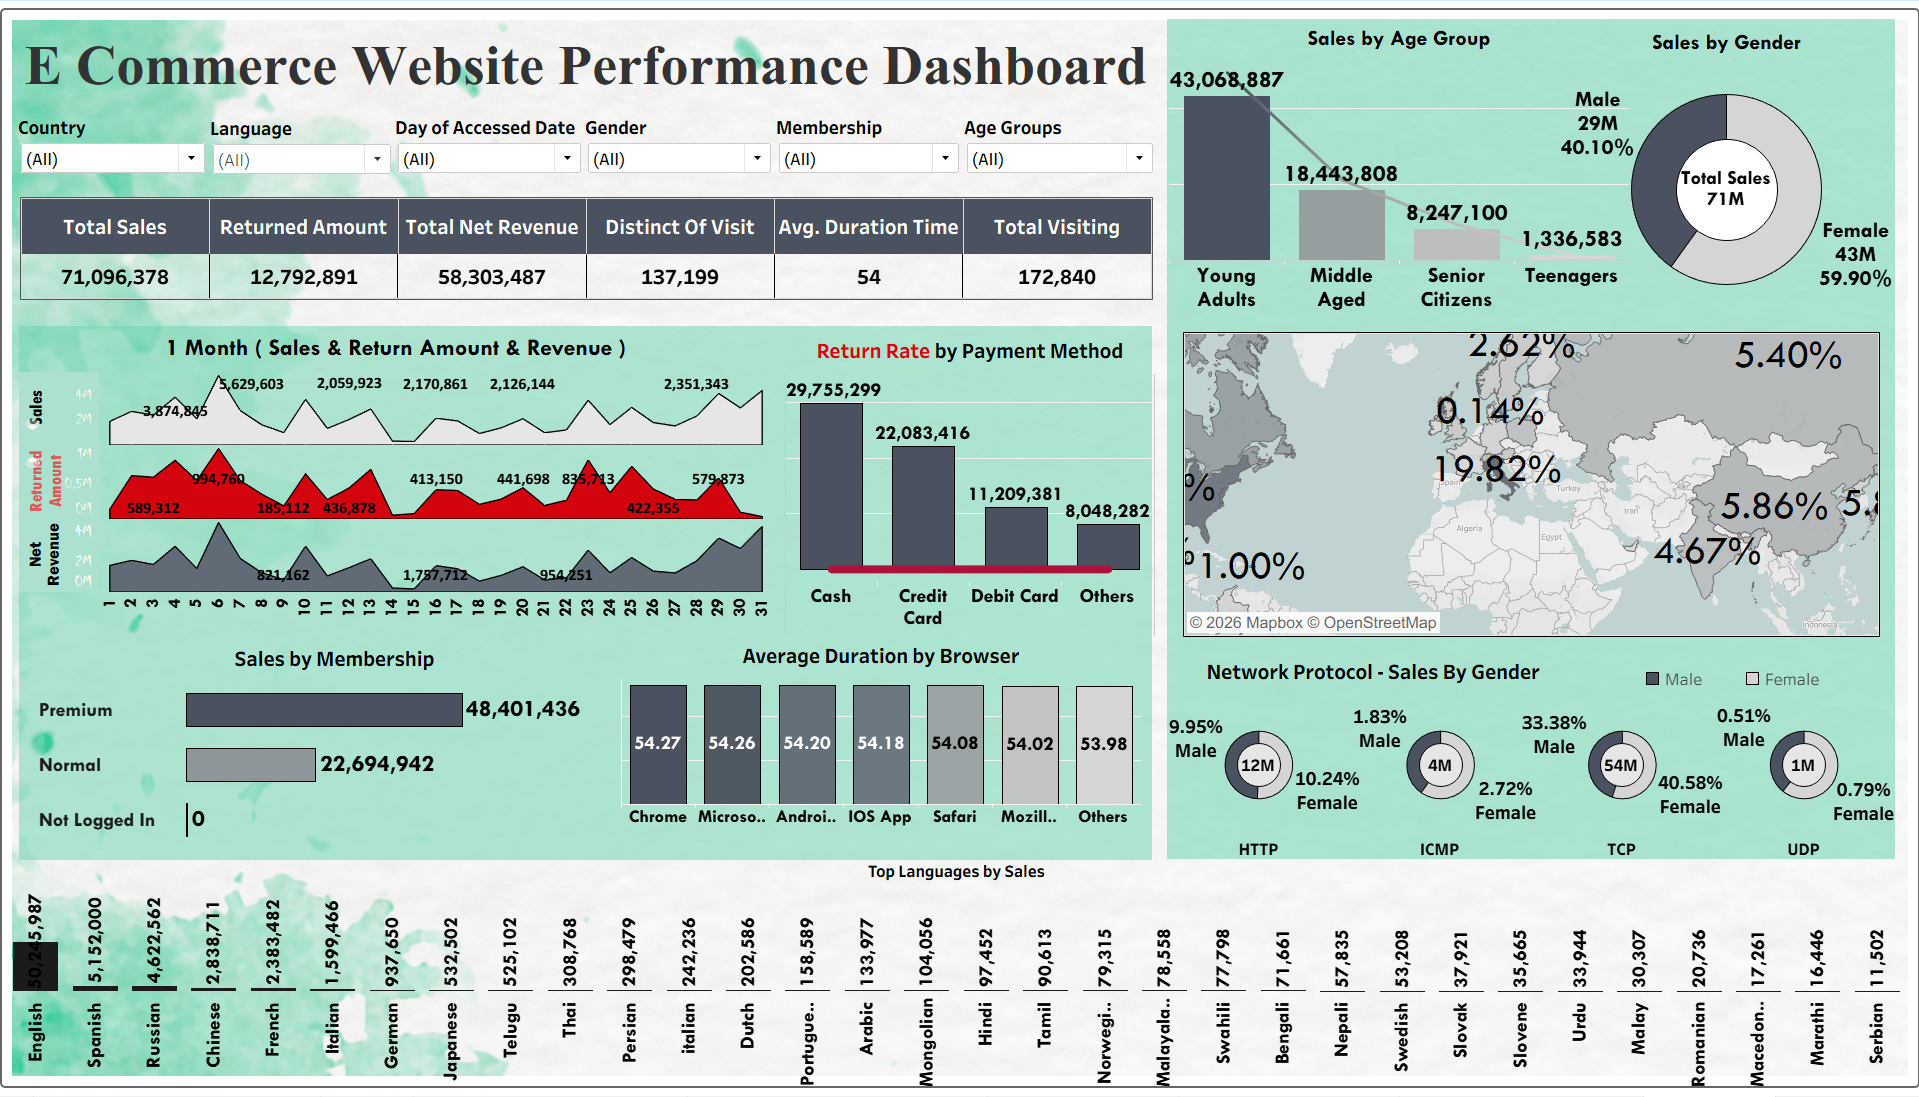

What the dashboard file says about the page in this screenshot:
{"tool":"tableau","page":{"name":"Dashboard","canvas":[1000,1000],"units":"permille","ordinal":0},"visuals":[{"type":"image","param":"C:/Softwares Downloads/hand-painted-watercolor-background-with-sky-clouds-shape.","box":[4.2,7.4,991.7,985.2]},{"type":"worksheet","title":"Age Group","mark":"Bar","rows":["Sales","Sales"],"cols":["Calculation_733523853957578754"],"box":[601,13,247.4,274.1]},{"type":"worksheet","title":"Gender ( Donut_Count )","mark":"Circle","rows":["Calculation_813462746253877249","Calculation_813462746253905923"],"box":[806.8,16.7,184.9,266.7]},{"type":"title","box":[82.3,26.9,510.4,90.7]},{"type":"filter","title":"Age Group","param":"[federated.1f1wf1k05gtjga10v74oe0rqsche].[none:Language:nk]","box":[108.3,119.4,95.8,67.6]},{"type":"filter","title":"KPI","param":"[federated.1f1wf1k05gtjga10v74oe0rqsche].[none:Calculation_733523853957578754:nk","box":[500,119.4,100,59.3]},{"type":"filter","title":"KPI","param":"[federated.1f1wf1k05gtjga10v74oe0rqsche].[none:Country:nk]","box":[8.8,120.4,99,58.3]},{"type":"filter","title":"KPI","param":"[federated.1f1wf1k05gtjga10v74oe0rqsche].[dy:Accessed_Date:ok]","box":[204.7,120.4,98.4,62]},{"type":"filter","title":"KPI","param":"[federated.1f1wf1k05gtjga10v74oe0rqsche].[none:Gender:nk]","box":[303.1,120.4,98.4,60.2]},{"type":"filter","title":"KPI","param":"[federated.1f1wf1k05gtjga10v74oe0rqsche].[none:Membership:nk]","box":[402.1,120.4,96.9,61.1]},{"type":"worksheet","title":"KPI","mark":"Automatic","box":[9.9,190.7,590.1,95.4]},{"type":"worksheet","title":"Sales & R/A ( Line_Plot )","mark":"Area","rows":["Sales","Returned_Amount","Calculation_733523853930549249"],"cols":["Accessed_Date"],"box":[9.9,298.2,392.7,283.3]},{"type":"worksheet","title":"Return Rate By Paymethod","mark":"Automatic","rows":["Sales","Calculation_281756518450688000"],"cols":["Pay_Method"],"box":[408.9,300,192.7,282.4]},{"type":"worksheet","title":"Map","mark":"Multipolygon","box":[607.8,300,379.2,282.4]},{"type":"worksheet","title":"Sales & Memberhip","mark":"Automatic","rows":["Membership"],"cols":["Sales"],"box":[9.9,595.4,314.1,191.7]},{"type":"worksheet","title":"Avg DM By Browser","mark":"Automatic","rows":["Duration_Minutes"],"cols":["Accessed_From"],"box":[330.7,596.3,270.8,191.7]},{"type":"worksheet","title":"Network P.DC","mark":"Pie","rows":["Calculation_1047086920991084554","Calculation_1047086920991289356"],"cols":["Network_Protocol"],"box":[608.3,597.2,378.7,190.7]},{"type":"legend","title":"Network P.DC","param":"[federated.1f1wf1k05gtjga10v74oe0rqsche].[none:Gender:nk]","box":[854.7,610.2,111.5,24.1]},{"type":"worksheet","title":"Language ( Bar_Plot )","mark":"Automatic","rows":["Sales"],"cols":["Language"],"box":[3.1,785.2,990.1,214.8]}]}

Visuals, with their boxes on the dashboard's canvas, which has no fixed pixel size, in thousandths of its width and height (x1, y1, x2, y2). These are canvas units, not pixel positions in the 1919x1097 screenshot, which may show the page scaled, cropped or inside an application window:
image: 4/7/996/993
"Age Group" worksheet (Bar marks): 601/13/848/287
"Gender ( Donut_Count )" worksheet (Circle marks): 807/17/992/283
title: 82/27/593/118
"Age Group" filter: 108/119/204/187
"KPI" filter: 500/119/600/179
"KPI" filter: 9/120/108/179
"KPI" filter: 205/120/303/182
"KPI" filter: 303/120/402/181
"KPI" filter: 402/120/499/182
"KPI" worksheet: 10/191/600/286
"Sales & R/A ( Line_Plot )" worksheet (Area marks): 10/298/403/582
"Return Rate By Paymethod" worksheet: 409/300/602/582
"Map" worksheet (Multipolygon marks): 608/300/987/582
"Sales & Memberhip" worksheet: 10/595/324/787
"Avg DM By Browser" worksheet: 331/596/602/788
"Network P.DC" worksheet (Pie marks): 608/597/987/788
"Network P.DC" legend: 855/610/966/634
"Language ( Bar_Plot )" worksheet: 3/785/993/1000
